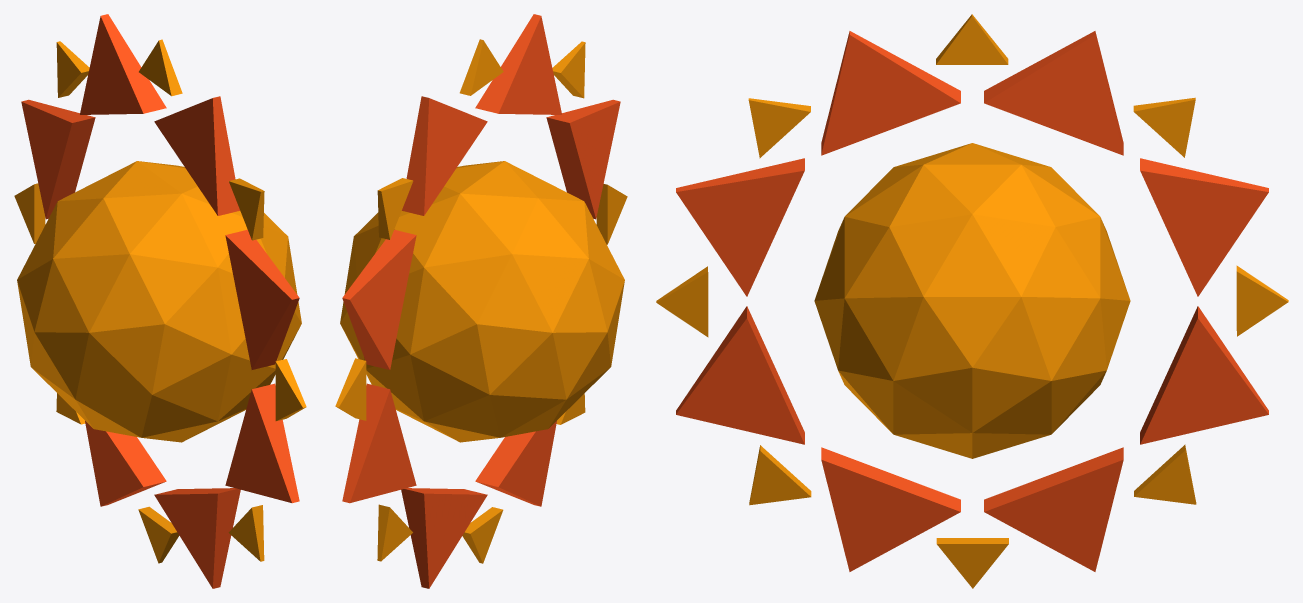
Rendered from Sun.glb.
3 views of the same model, side by side, from view 1: azimuth 30°, elevation 25°; view 2: azimuth 150°, elevation 25°; view 3: azimuth 270°, elevation 25° (orthographic). The views are drawn at different scales.
Visible parts, largest first — view 1: sun_01_Sphere; view 2: sun_01_Sphere; view 3: sun_01_Sphere.
Boxes of the visible parts, x1,y1,x2,y2 form: sun_01_Sphere: (14,14,306,588); sun_01_Sphere: (335,14,627,588); sun_01_Sphere: (656,14,1288,588).
Bounding box in the file's own units: 106 × 212 × 212.
